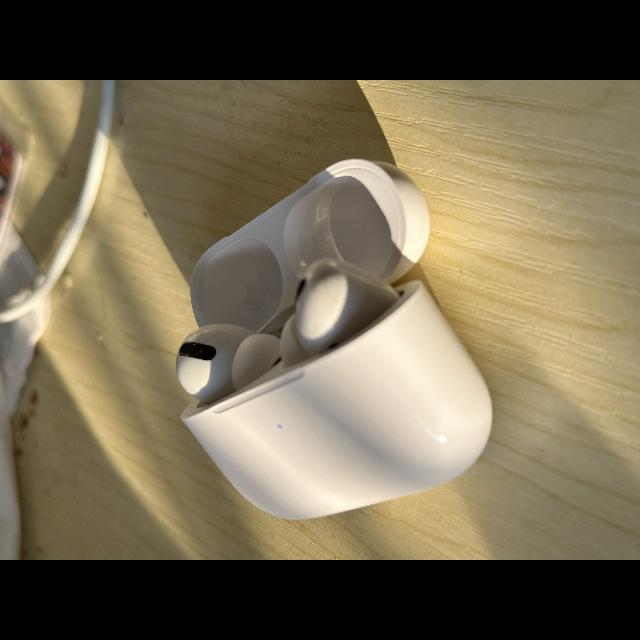AirPods Pro: (176, 158, 493, 519)
